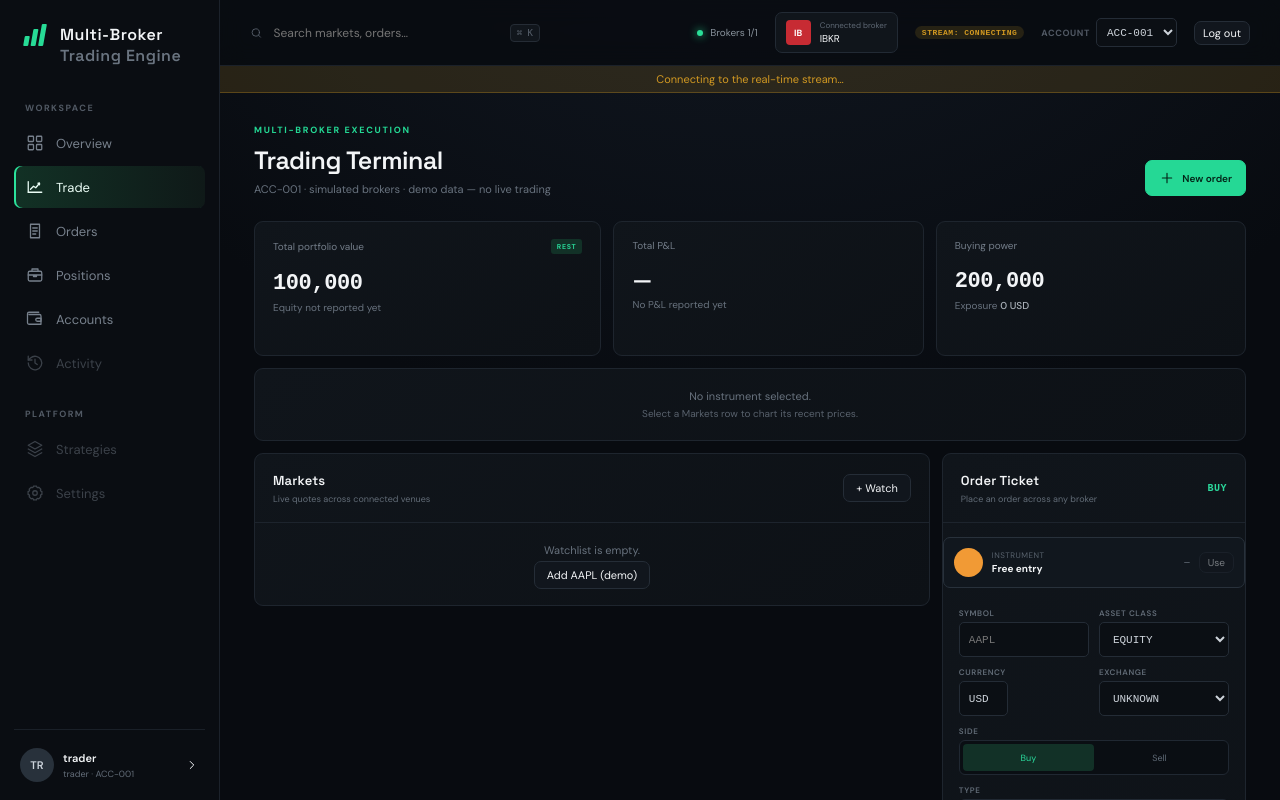
Scenario: App (trading terminal) › renders a logout control that ends the session
The width and height of the screenshot is (1280, 800).
What coordinates should you click on to do the following:
click the button "Log out"
I would click on:
 (1222, 32)
Its box is [1194,20,1250,44].
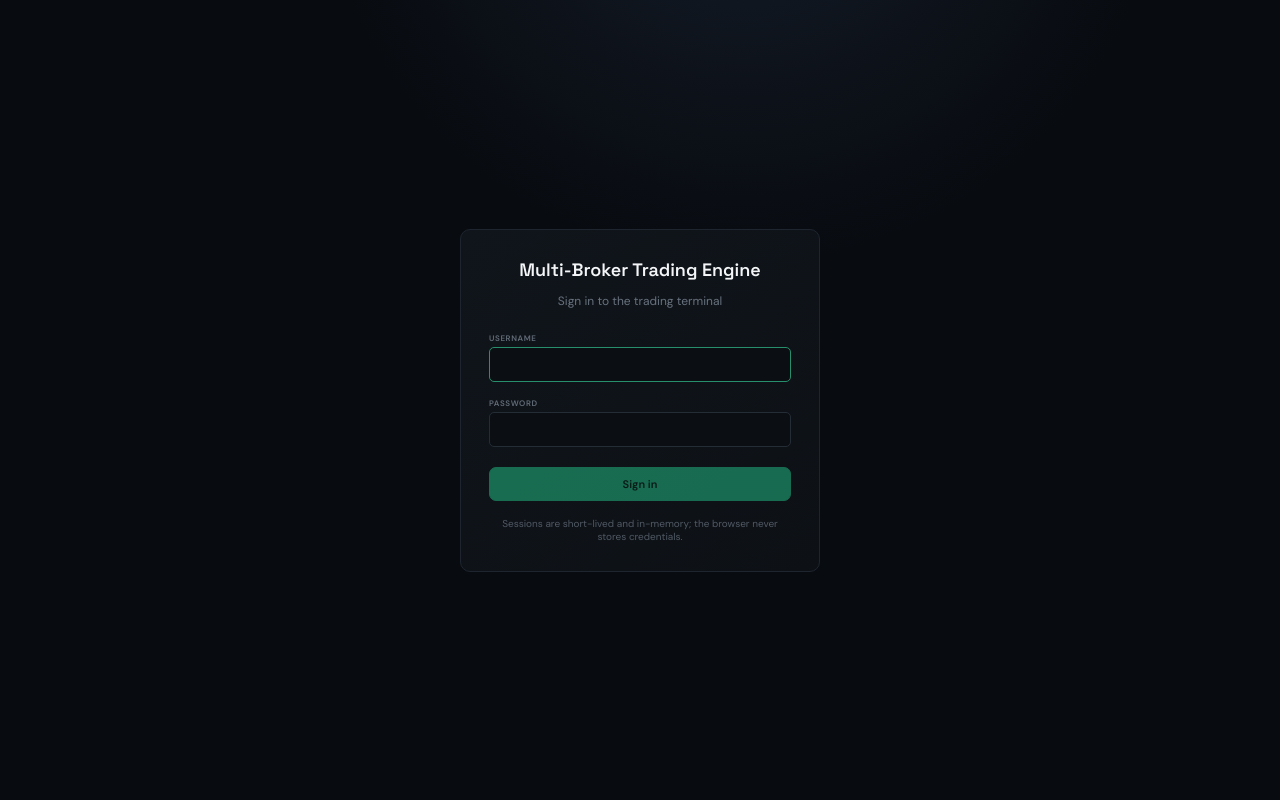
Check: the text "Sign in to the trading terminal" is shown, box [558,292,722,308]
